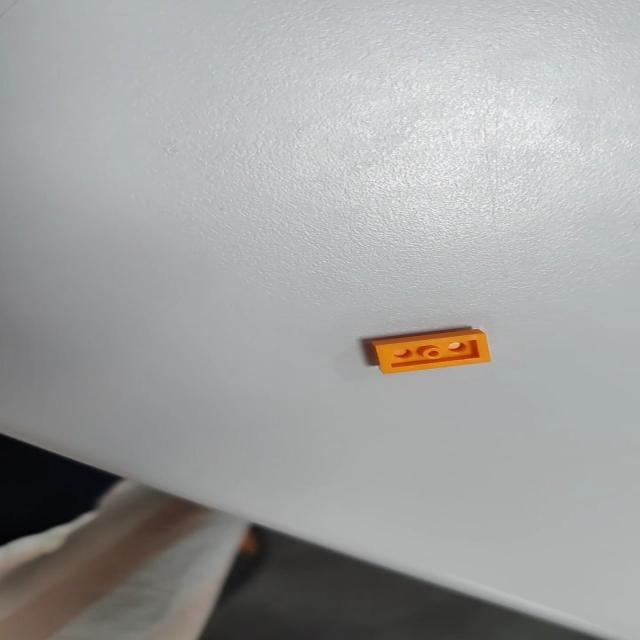C2x1x0: (360, 332, 510, 374)
